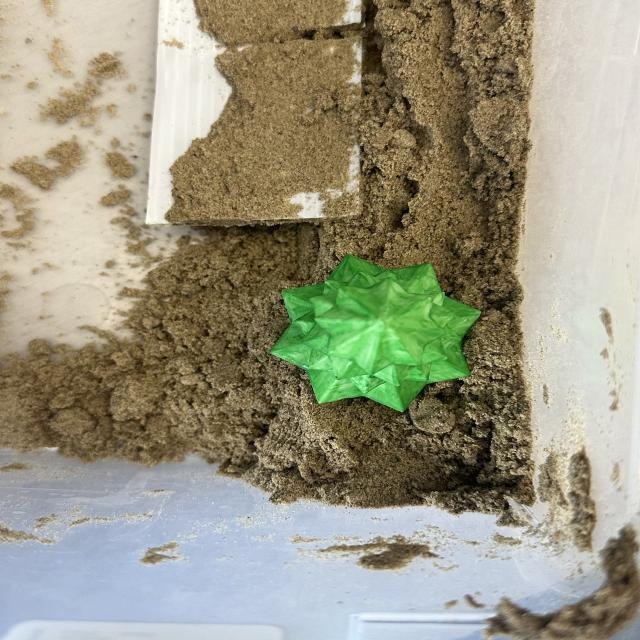tree: (270, 253, 484, 413)
